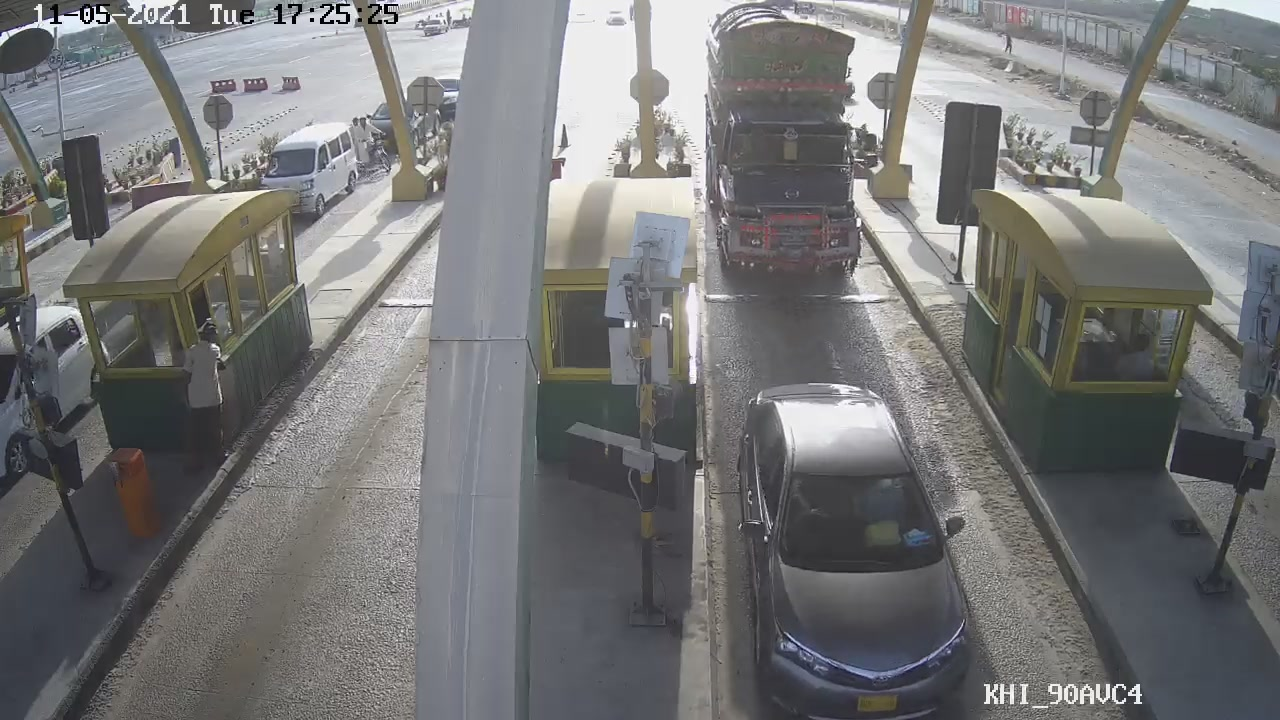F5: (680, 24, 899, 279)
